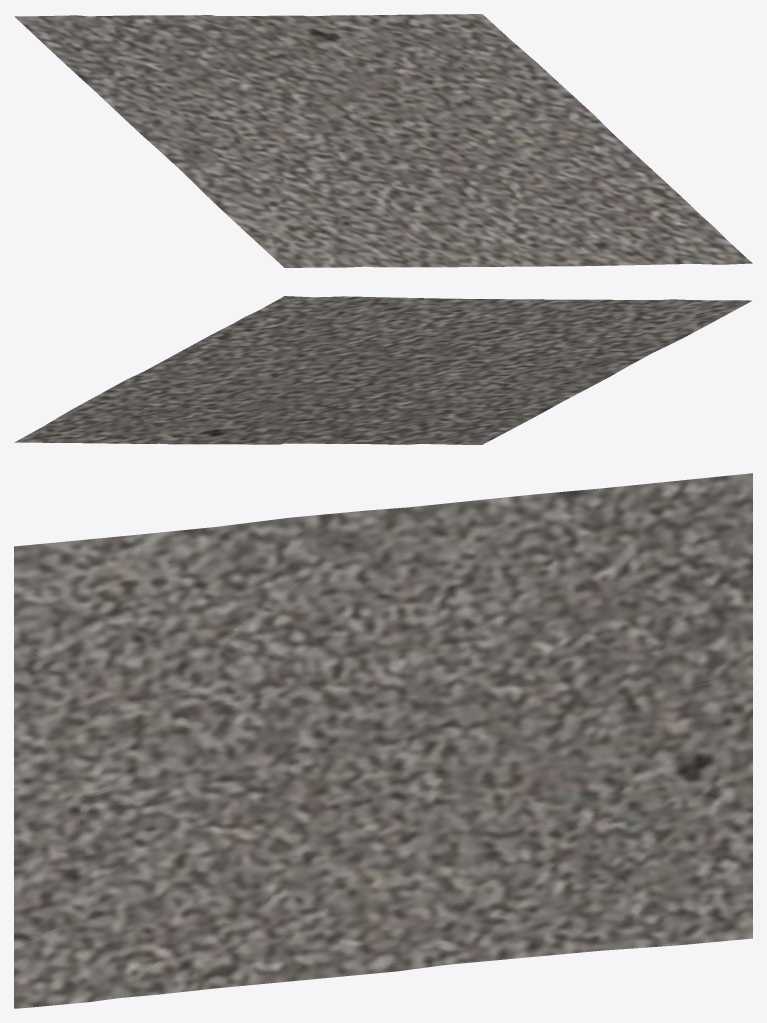
3 renders of one model, top to bottom at view 1: azimuth 30°, elevation 25°; view 2: azimuth 150°, elevation 25°; view 3: azimuth 270°, elevation 25°, orthographic. The views are drawn at different scales.
Size of the model in its own units: 0.8374 by 0.2792 by 0.8374.
3 materials, 3 textured.
